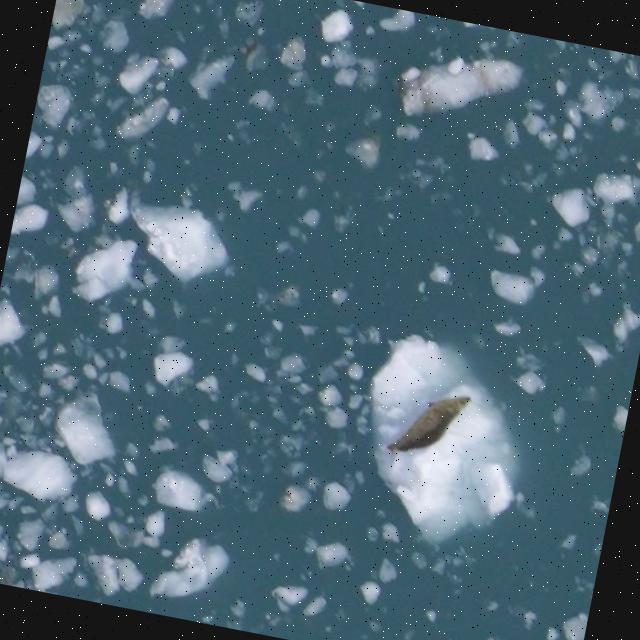seal: (386, 395, 471, 452)
